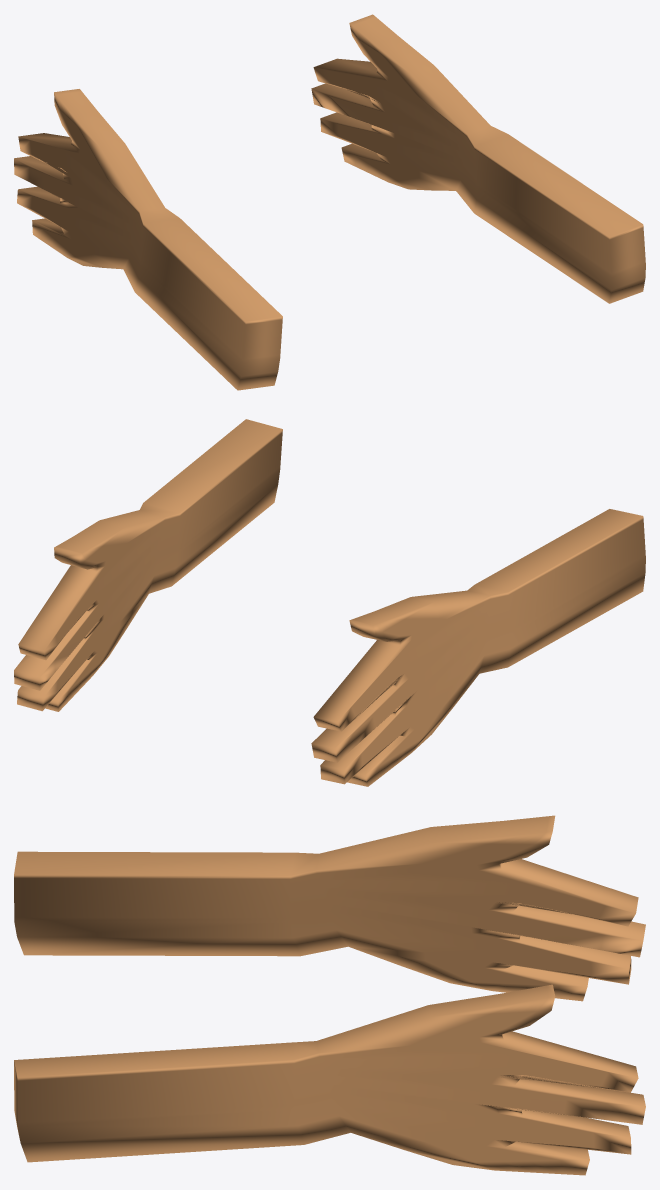
Rendered from hands.glb.
The picture shows the model from 3 angles, top to bottom: view 1: azimuth 30°, elevation 25°; view 2: azimuth 150°, elevation 25°; view 3: azimuth 270°, elevation 25°; orthographic projection. The views are drawn at different scales.
Parts seen in each view (by area): view 1: Cube; view 2: Cube; view 3: Cube.
Boxes of the visible parts, bbox=[...] form: Cube: bbox=[14, 14, 645, 390]; Cube: bbox=[14, 419, 645, 786]; Cube: bbox=[14, 815, 645, 1175].
Size of the model in its own units: 5.41 by 1.94 by 6.28.
